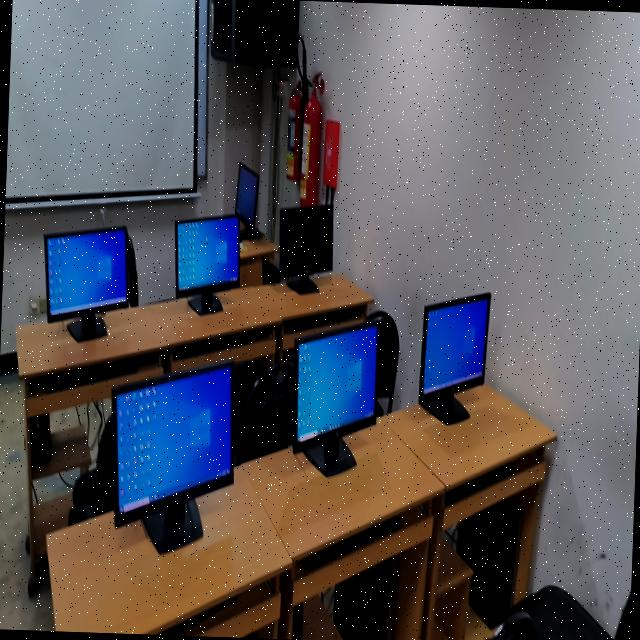Chair: (482, 584, 612, 640), (237, 360, 294, 462), (69, 414, 112, 522), (366, 309, 398, 414)
Cpu: (448, 499, 518, 626), (320, 559, 394, 640)
Fire Extinguisher: (298, 71, 323, 205), (285, 78, 301, 179)
Keyboard: (303, 514, 401, 569), (28, 352, 155, 391), (154, 596, 235, 635), (444, 462, 514, 505), (172, 328, 266, 358), (283, 305, 363, 332)
Monitor: (111, 360, 234, 551), (295, 324, 376, 442), (417, 292, 489, 423), (43, 225, 134, 320), (174, 213, 238, 294), (277, 204, 332, 276), (234, 161, 257, 231)
